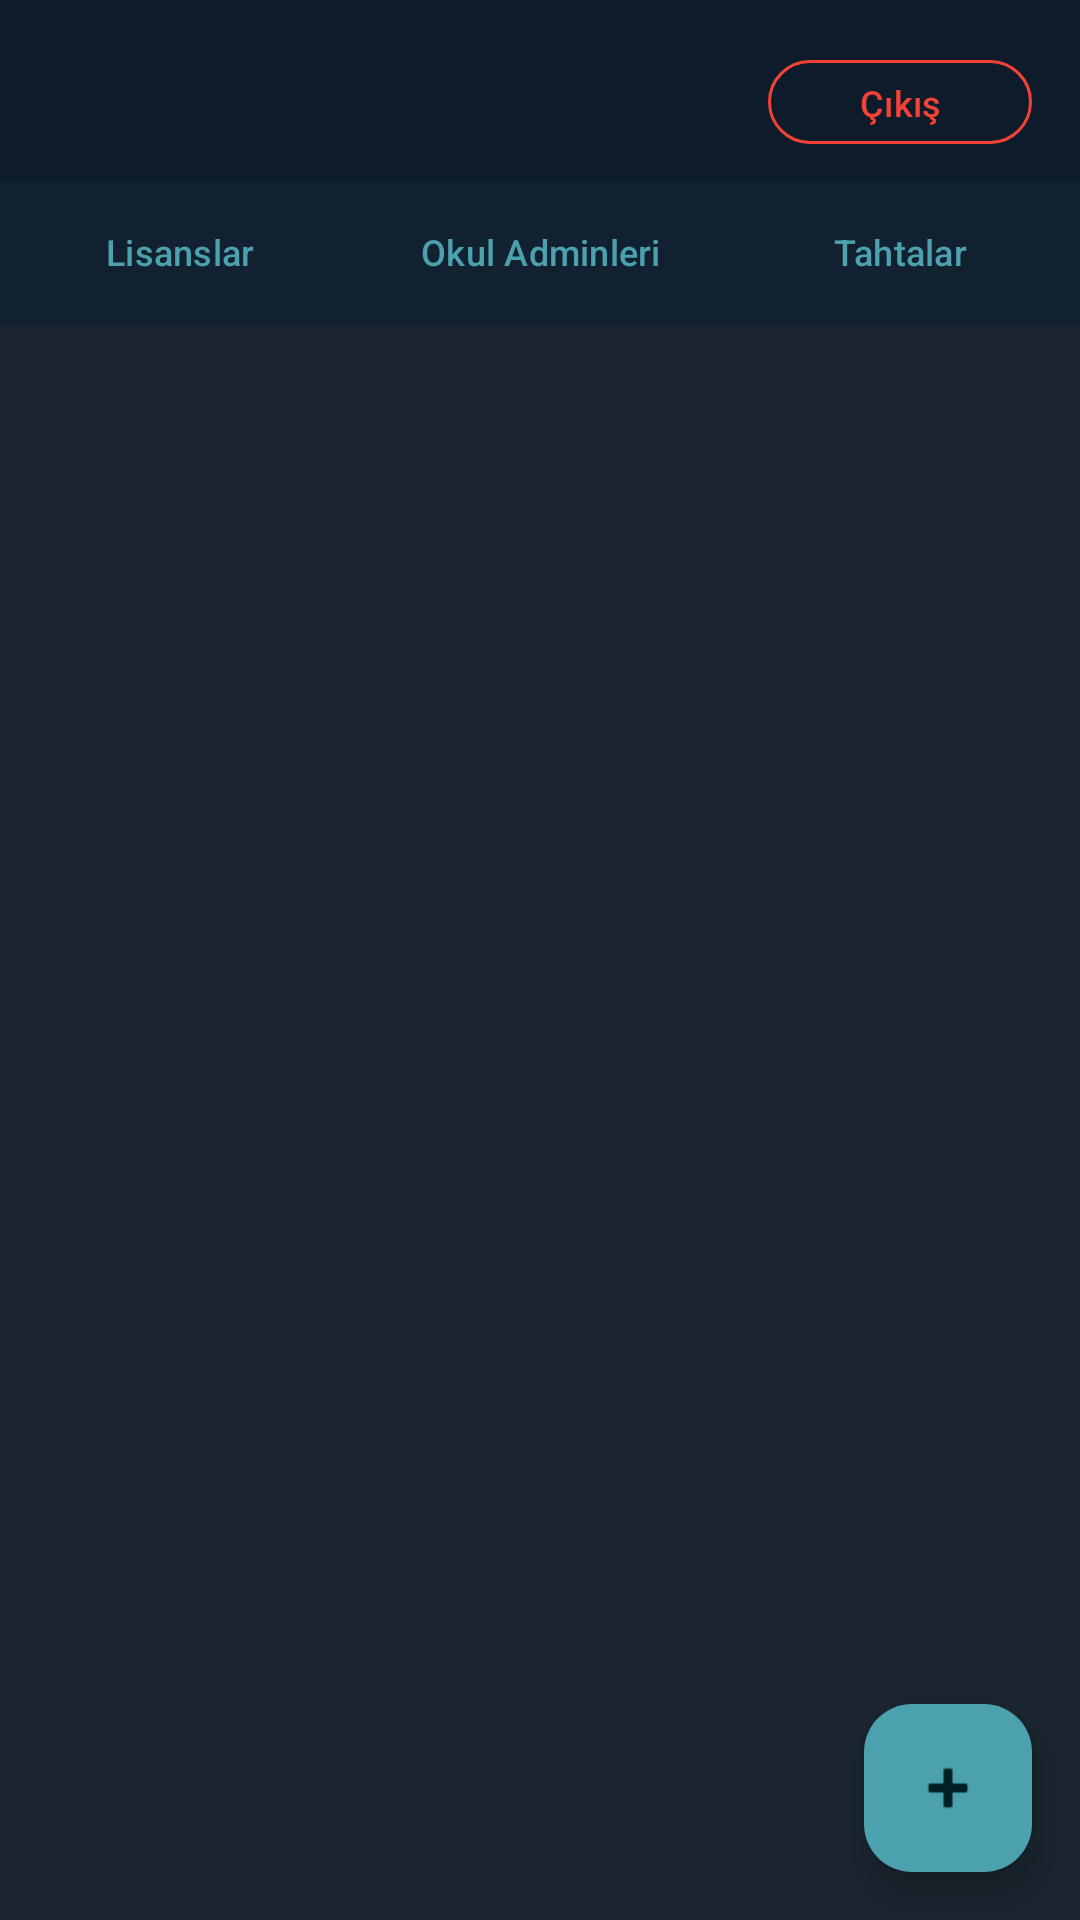

Locate icon controls on the screen. Image size 1080*1920, boxes as (x1, y1, x2, y2).
Ekle: (864, 1704, 1032, 1872)
